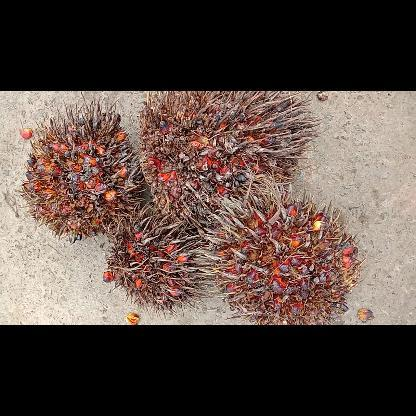Terlalu masak: (134, 91, 328, 223), (192, 180, 366, 324), (19, 91, 149, 251), (101, 198, 220, 324)
